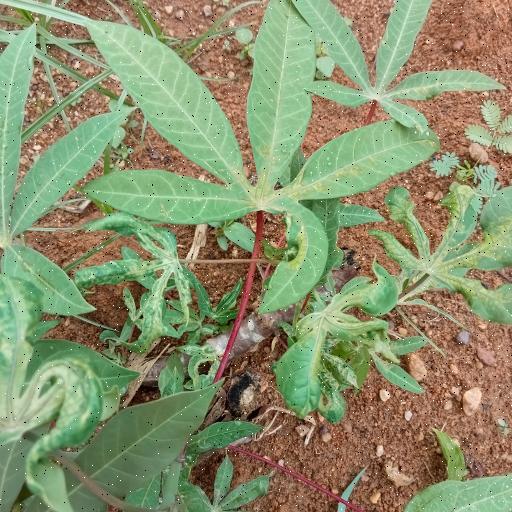Cassava_Mosaic: (89, 14, 421, 298), (0, 241, 96, 510), (386, 185, 512, 334), (282, 286, 408, 419), (106, 219, 209, 340)
